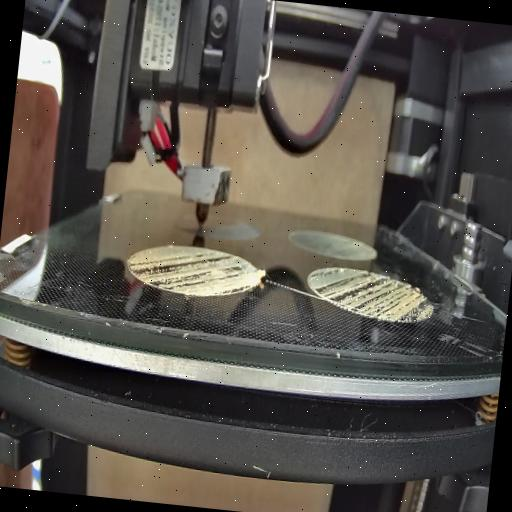under_extrusion: (308, 264, 432, 322), (128, 242, 250, 298)
